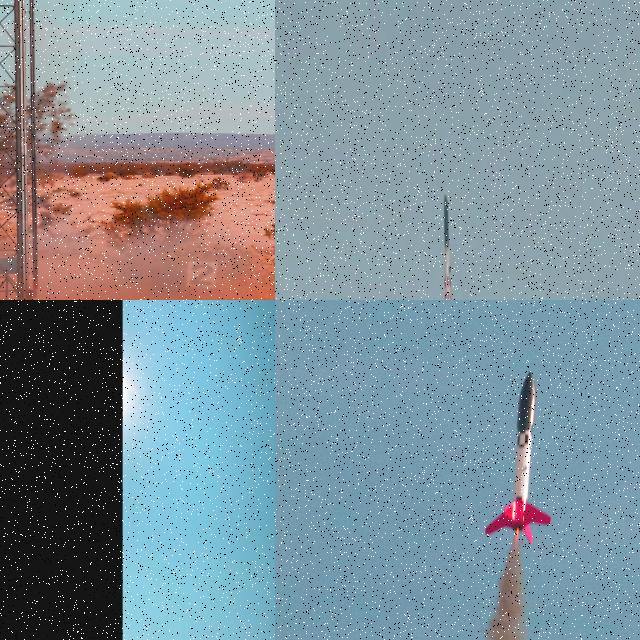Rocket: (484, 369, 553, 545), (439, 193, 458, 300)
